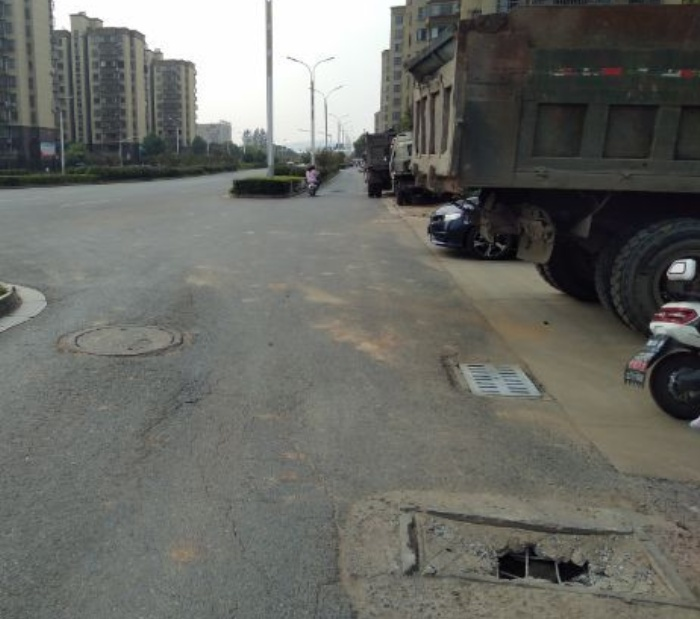broke: (396, 491, 685, 599)
